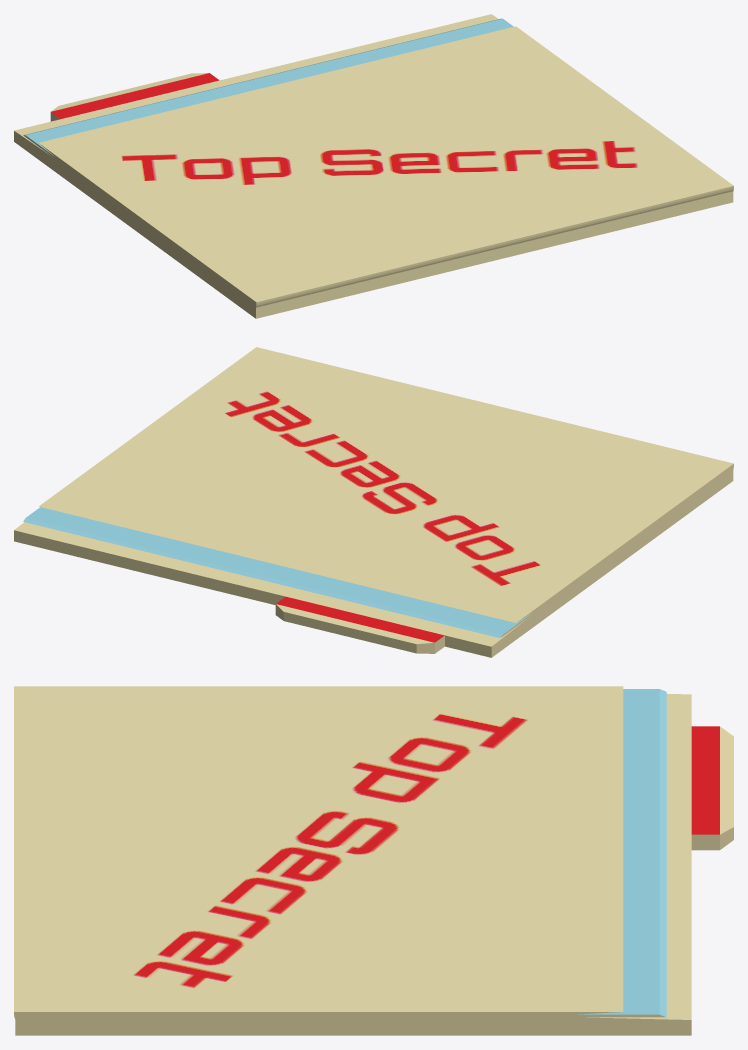
The model's file is dossier.fbx.
3 renders of one model, top to bottom at view 1: azimuth 30°, elevation 25°; view 2: azimuth 150°, elevation 25°; view 3: azimuth 270°, elevation 25°, orthographic. The views are drawn at different scales.
Parts seen in each view (by area): view 1: Cube; view 2: Cube; view 3: Cube.
Boxes of the visible parts, box(x1,y1,x2,y2) form: Cube: box(14, 14, 733, 318); Cube: box(14, 347, 733, 657); Cube: box(14, 686, 733, 1035).
Size of the model in its own units: 331 by 11.19 by 309.
